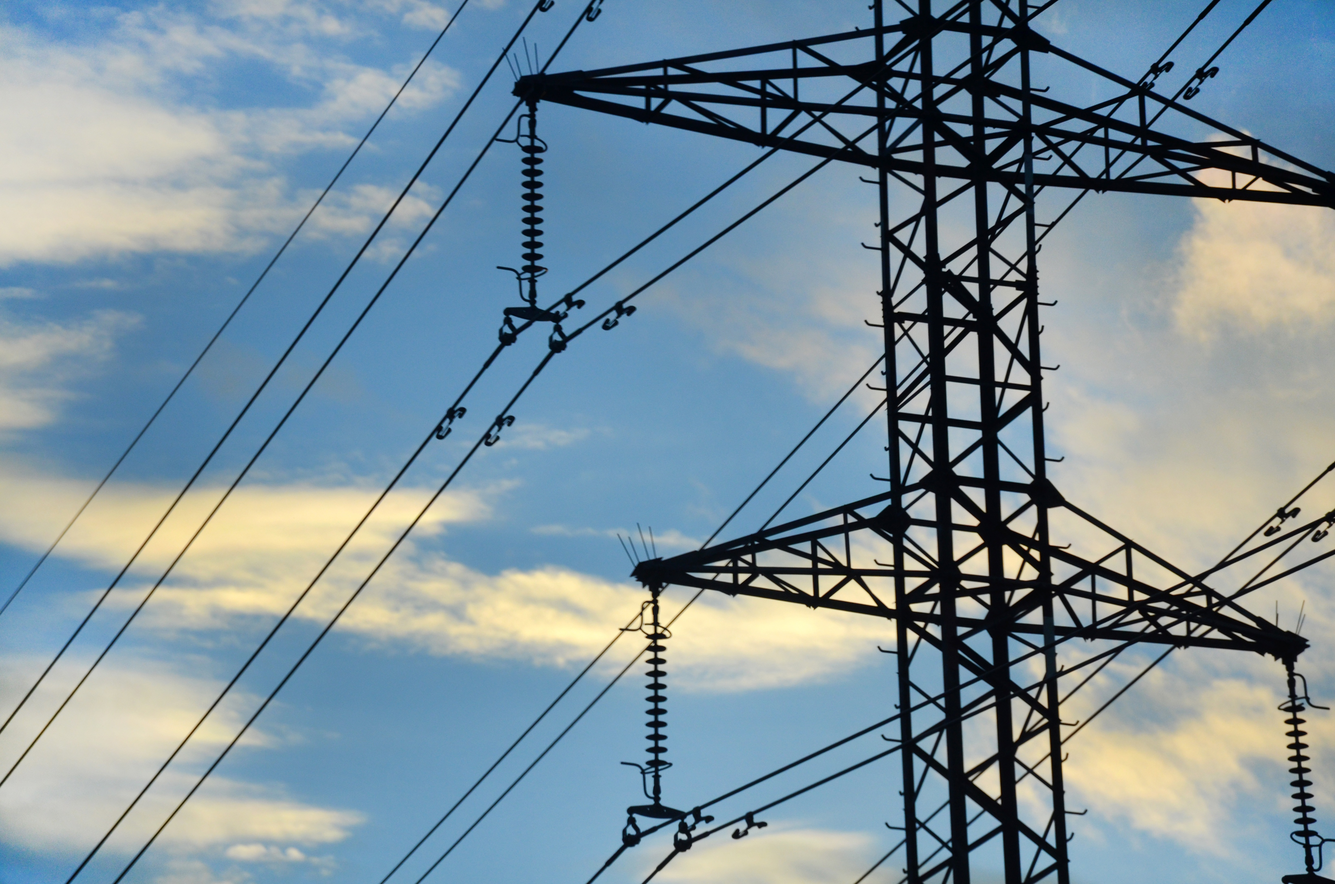insulator: (1265, 692, 1331, 870), (498, 127, 557, 289), (633, 606, 680, 803)
